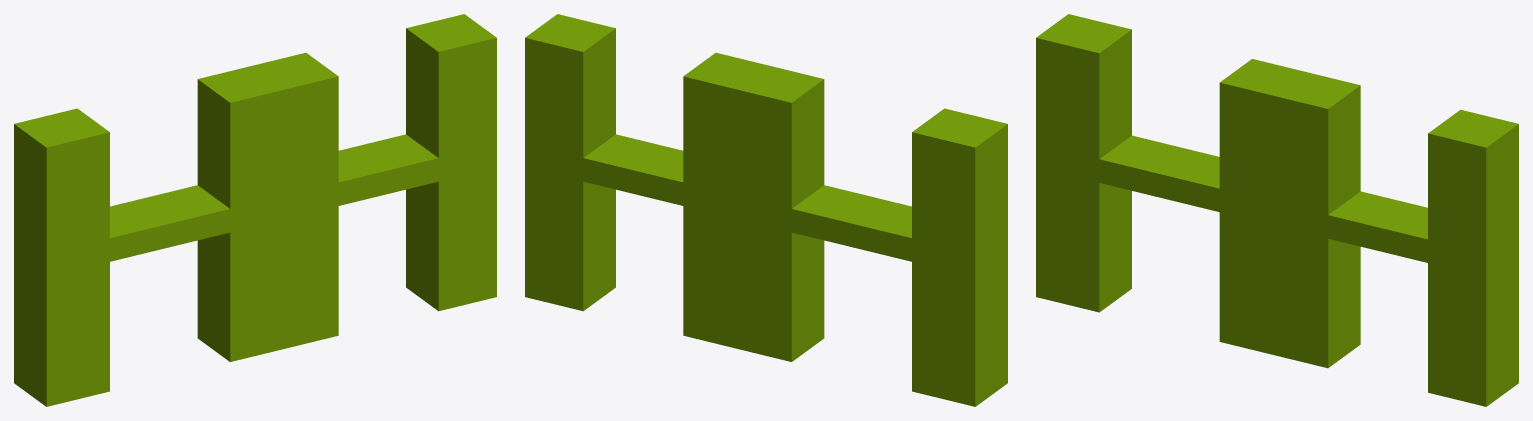
Rendered from fence.glb.
3 renders of one model, left to right at view 1: azimuth 30°, elevation 25°; view 2: azimuth 150°, elevation 25°; view 3: azimuth 330°, elevation 25°, orthographic.
Visible parts, largest first — view 1: imagetostl_mesh4, imagetostl_mesh2, imagetostl_mesh16, imagetostl_mesh20, imagetostl_mesh17, imagetostl_mesh8, imagetostl_mesh21, imagetostl_mesh14, imagetostl_mesh18, imagetostl_mesh6, imagetostl_mesh1; view 2: imagetostl_mesh9, imagetostl_mesh2, imagetostl_mesh16, imagetostl_mesh20, imagetostl_mesh17, imagetostl_mesh8, imagetostl_mesh21, imagetostl_mesh14, imagetostl_mesh18, imagetostl_mesh6, imagetostl_mesh1; view 3: imagetostl_mesh4, imagetostl_mesh3, imagetostl_mesh11, imagetostl_mesh10, imagetostl_mesh8, imagetostl_mesh13, imagetostl_mesh12, imagetostl_mesh14, imagetostl_mesh18, imagetostl_mesh6, imagetostl_mesh1.
Boxes of the visible parts, <box> form: imagetostl_mesh4: <box>46,38,496,406</box>; imagetostl_mesh2: <box>14,124,46,406</box>; imagetostl_mesh16: <box>197,232,230,361</box>; imagetostl_mesh20: <box>406,181,438,310</box>; imagetostl_mesh17: <box>197,79,230,208</box>; imagetostl_mesh8: <box>198,52,338,102</box>; imagetostl_mesh21: <box>406,28,438,157</box>; imagetostl_mesh14: <box>110,185,229,237</box>; imagetostl_mesh18: <box>338,134,437,182</box>; imagetostl_mesh6: <box>14,108,109,147</box>; imagetostl_mesh1: <box>406,14,496,51</box>; imagetostl_mesh9: <box>525,38,975,406</box>; imagetostl_mesh2: <box>975,124,1007,406</box>; imagetostl_mesh16: <box>791,232,824,361</box>; imagetostl_mesh20: <box>583,181,615,310</box>; imagetostl_mesh17: <box>791,79,824,208</box>; imagetostl_mesh8: <box>683,52,823,102</box>; imagetostl_mesh21: <box>583,28,615,157</box>; imagetostl_mesh14: <box>792,185,911,237</box>; imagetostl_mesh18: <box>584,134,683,182</box>; imagetostl_mesh6: <box>912,108,1007,147</box>; imagetostl_mesh1: <box>525,14,615,51</box>; imagetostl_mesh4: <box>1036,38,1486,406</box>; imagetostl_mesh3: <box>1486,124,1518,406</box>; imagetostl_mesh11: <box>1099,183,1131,312</box>; imagetostl_mesh10: <box>1328,239,1360,367</box>; imagetostl_mesh8: <box>1220,59,1360,108</box>; imagetostl_mesh13: <box>1328,85,1360,214</box>; imagetostl_mesh12: <box>1099,30,1131,158</box>; imagetostl_mesh14: <box>1100,135,1219,188</box>; imagetostl_mesh18: <box>1328,191,1427,239</box>; imagetostl_mesh6: <box>1036,14,1131,53</box>; imagetostl_mesh1: <box>1428,109,1518,147</box>.
Size of the model in its own units: 157 by 86.61 by 19.69.
